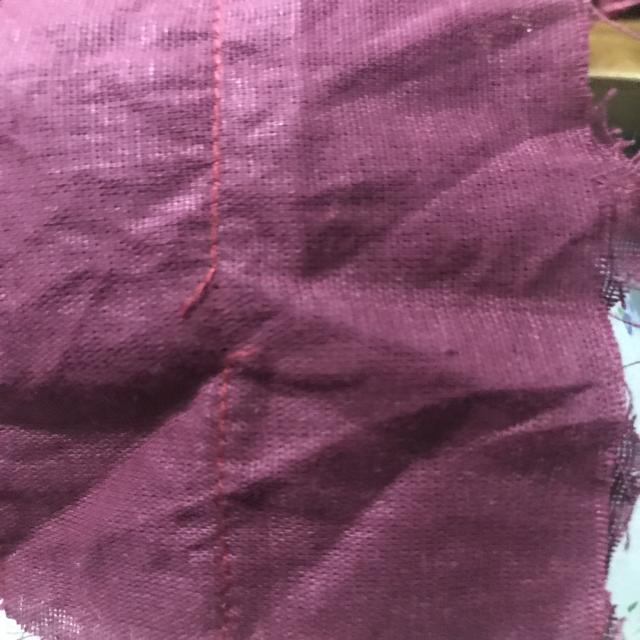broken: (159, 248, 273, 388)
good: (187, 102, 245, 206)
